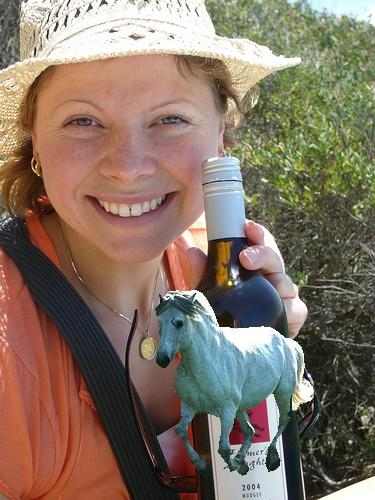tampered: (156, 291, 314, 476)
